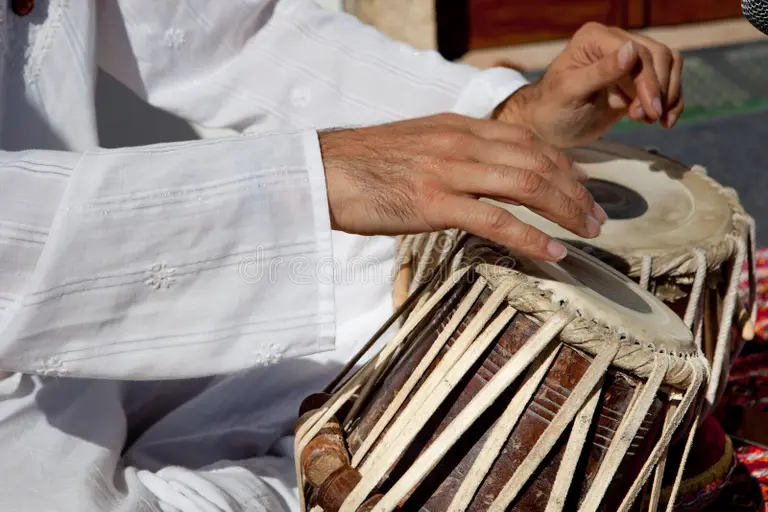tabla: (311, 234, 707, 505), (476, 138, 751, 287)
